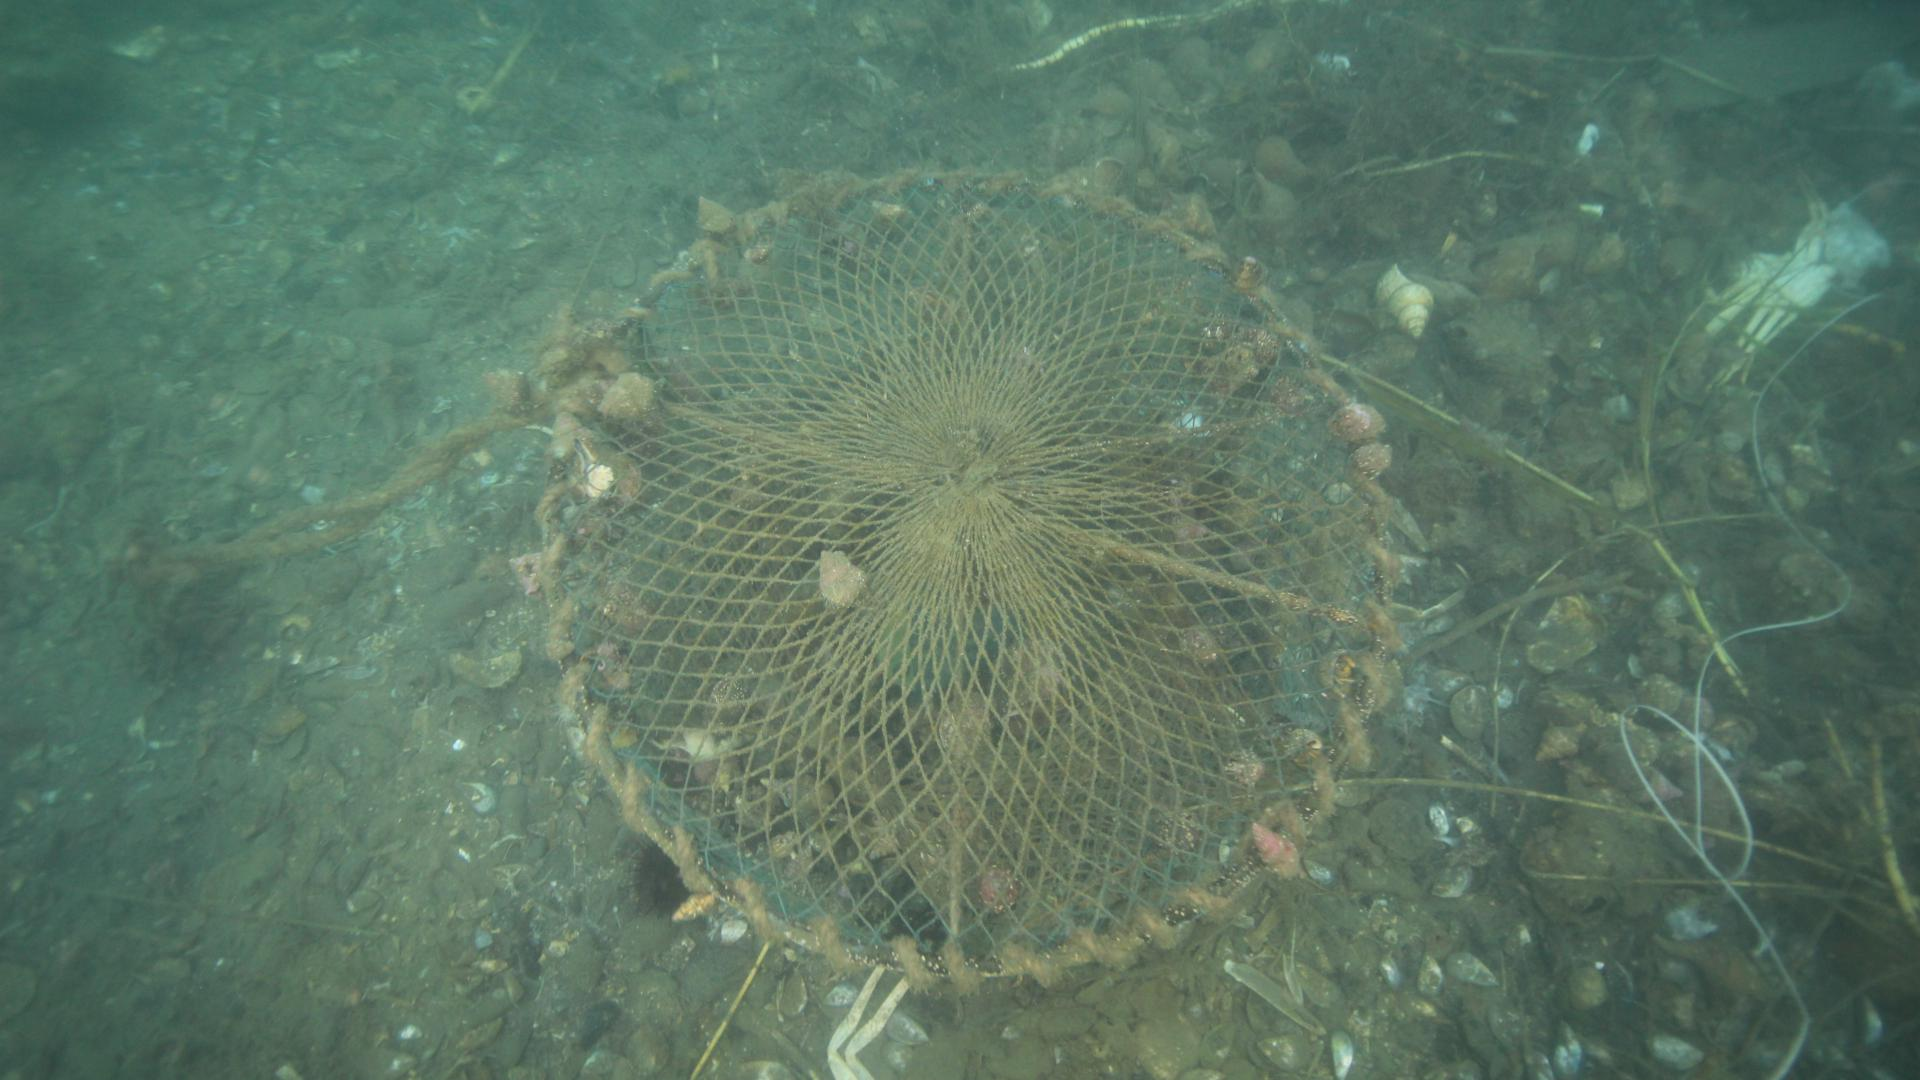bundle of ropes: (121, 392, 537, 597)
circular fish trap: (524, 146, 1404, 992)
